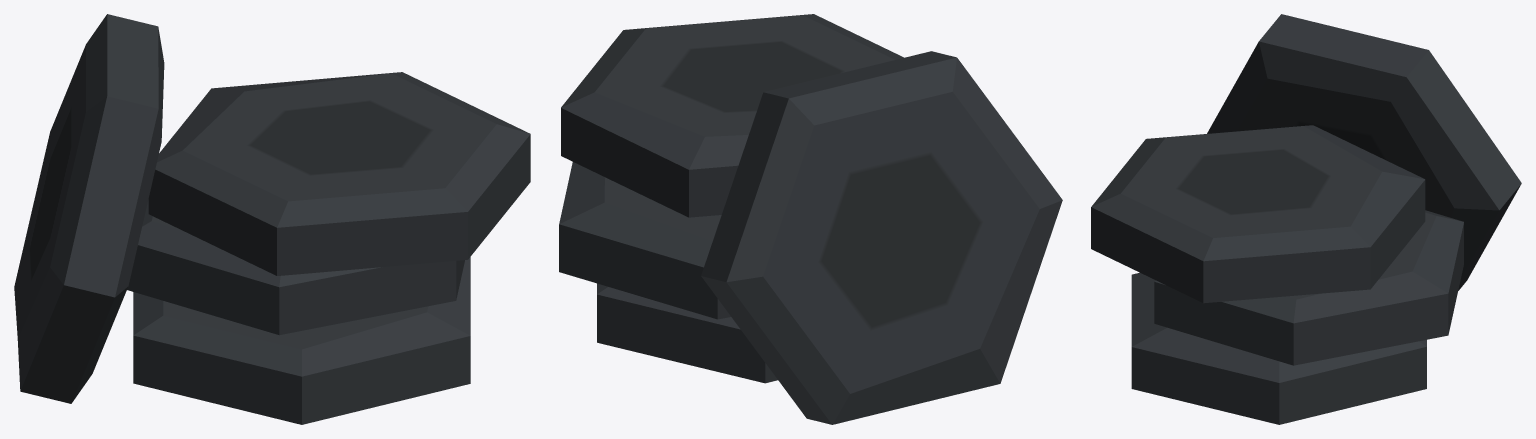
The model's file is SM_Prop_Gym_Weight_Stack_02.glb.
The picture shows the model from 3 angles, left to right: view 1: azimuth 30°, elevation 25°; view 2: azimuth 150°, elevation 25°; view 3: azimuth 270°, elevation 25°; orthographic projection. The views are drawn at different scales.
Parts seen in each view (by area): view 1: SM_Prop_Gym_Weight_Stack_02; view 2: SM_Prop_Gym_Weight_Stack_02; view 3: SM_Prop_Gym_Weight_Stack_02.
Part boxes in pixels (<box>): SM_Prop_Gym_Weight_Stack_02: <box>14,14,530,424</box>; SM_Prop_Gym_Weight_Stack_02: <box>559,14,1062,424</box>; SM_Prop_Gym_Weight_Stack_02: <box>1091,14,1521,424</box>.
Bounding box in the file's own units: 0.394 × 0.2554 × 0.3701.
1 material, 1 textured.
